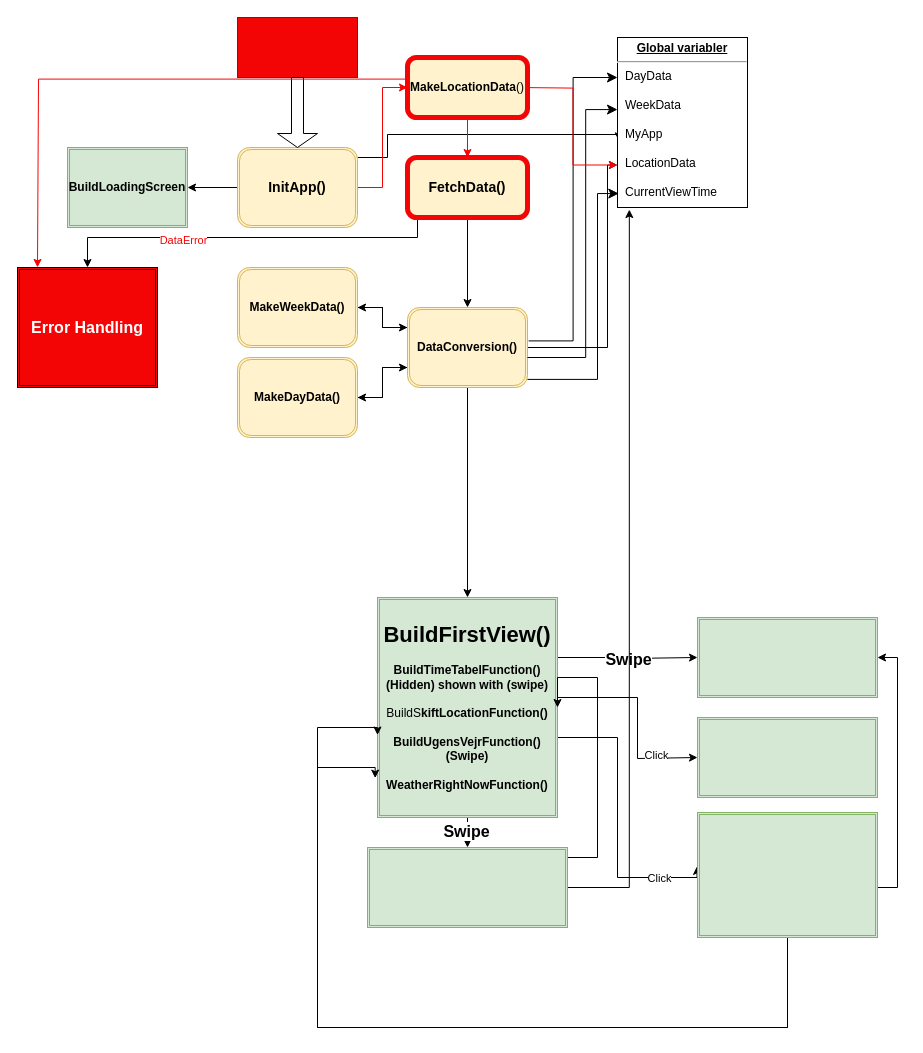
Image size: 923x1053. Some labels were removed from this diagram. Each missing label, with the centre of its shape:
"ActivateLocationFuncution() Changeable location()" belongs at (x=787, y=757).
"BuildClickedDayView() DisplayTimeTableFunction()" belongs at (x=787, y=875).
"DisplayTimeTableFuncution()" belongs at (x=787, y=657).
"On load" belongs at (x=297, y=47).
"SwipeDetection()" belongs at (x=467, y=887).
